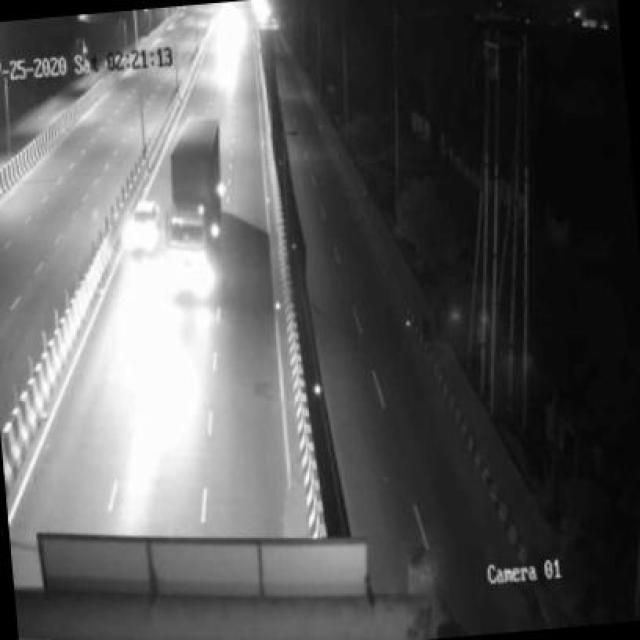car: (118, 185, 170, 264)
